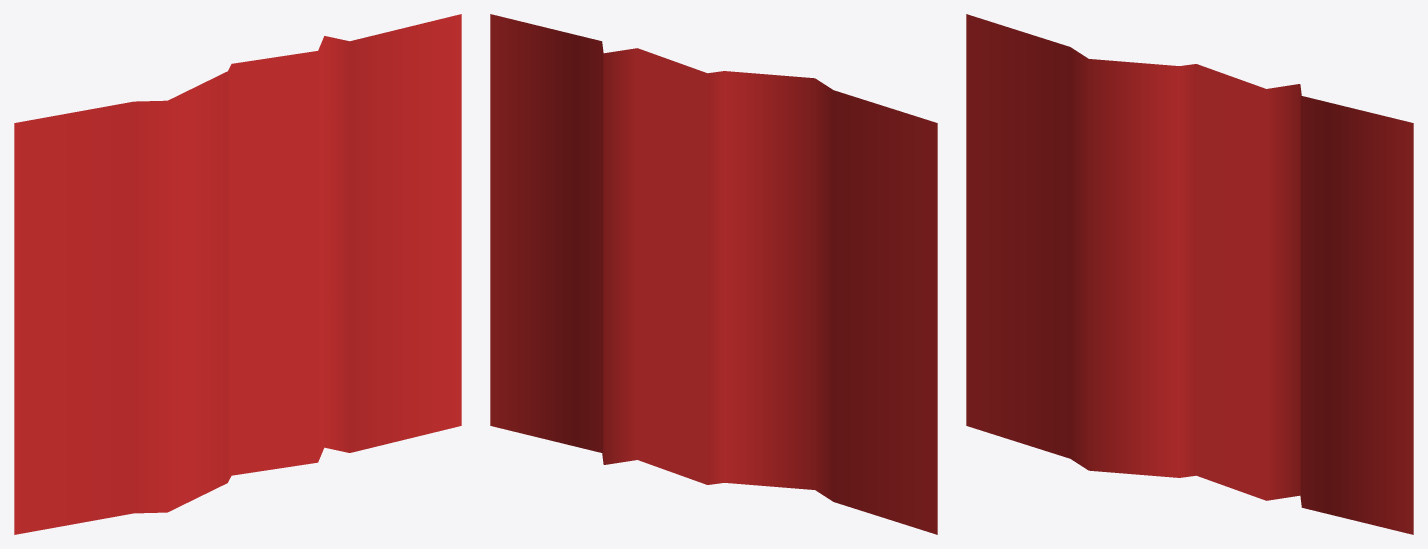
Rendered from Curtain_01_001.fbx.
3 renders of one model, left to right at view 1: azimuth 30°, elevation 25°; view 2: azimuth 150°, elevation 25°; view 3: azimuth 330°, elevation 25°, orthographic.
Parts seen in each view (by area): view 1: Curtains01_001; view 2: Curtains01_001; view 3: Curtains01_001.
Boxes of the visible parts, left/top/right/bottom form: Curtains01_001: left=14, top=14, right=461, bottom=534; Curtains01_001: left=490, top=14, right=937, bottom=534; Curtains01_001: left=966, top=14, right=1413, bottom=534.
Size of the model in its own units: 175 by 154 by 18.56.
